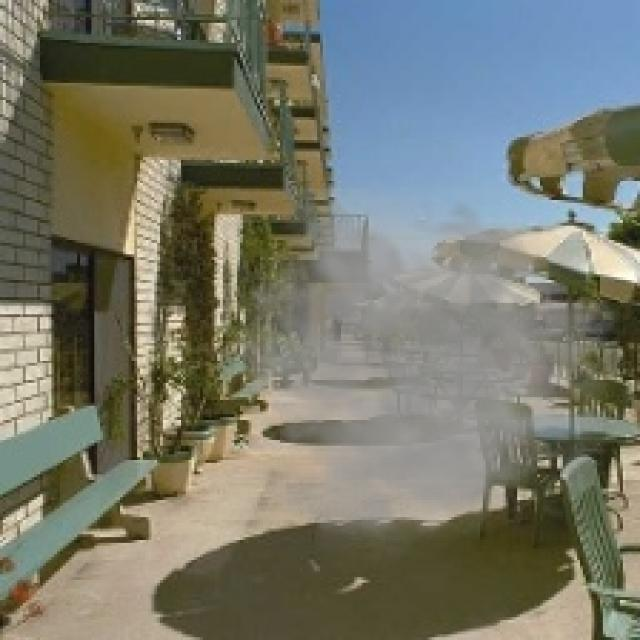Smoke: (217, 188, 626, 574)
